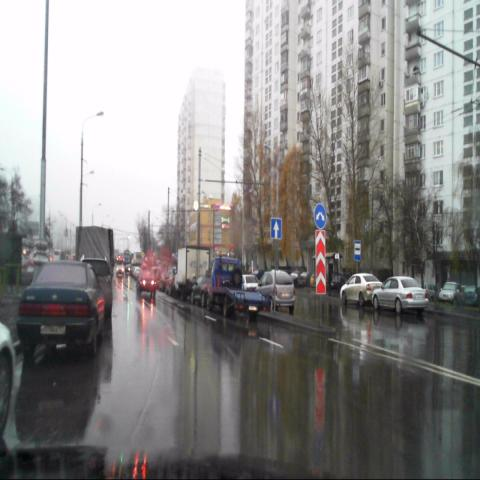4_2_3: (314, 203, 326, 229)
